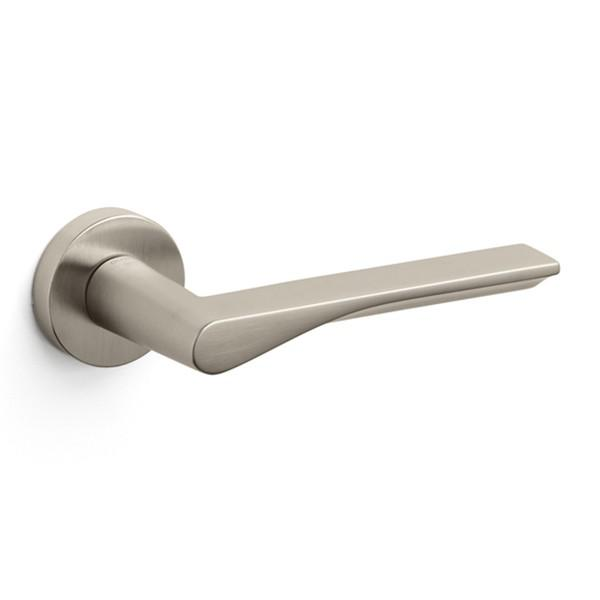doorhandle: (40, 193, 576, 423)
